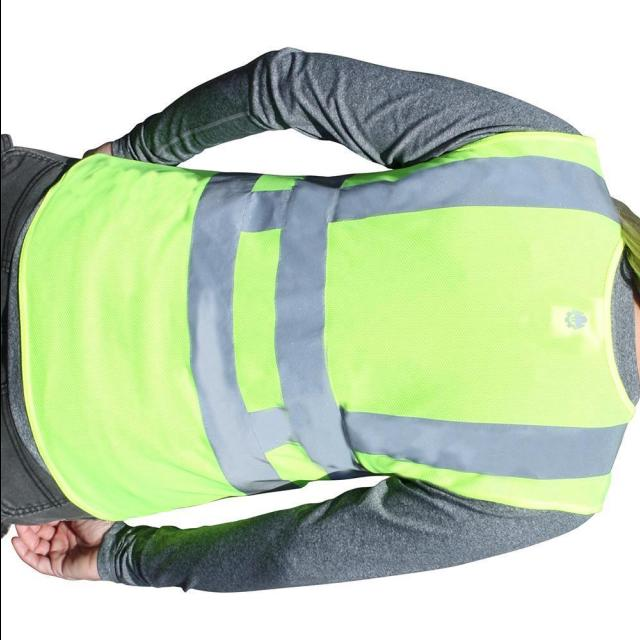jacket: (20, 115, 630, 538)
